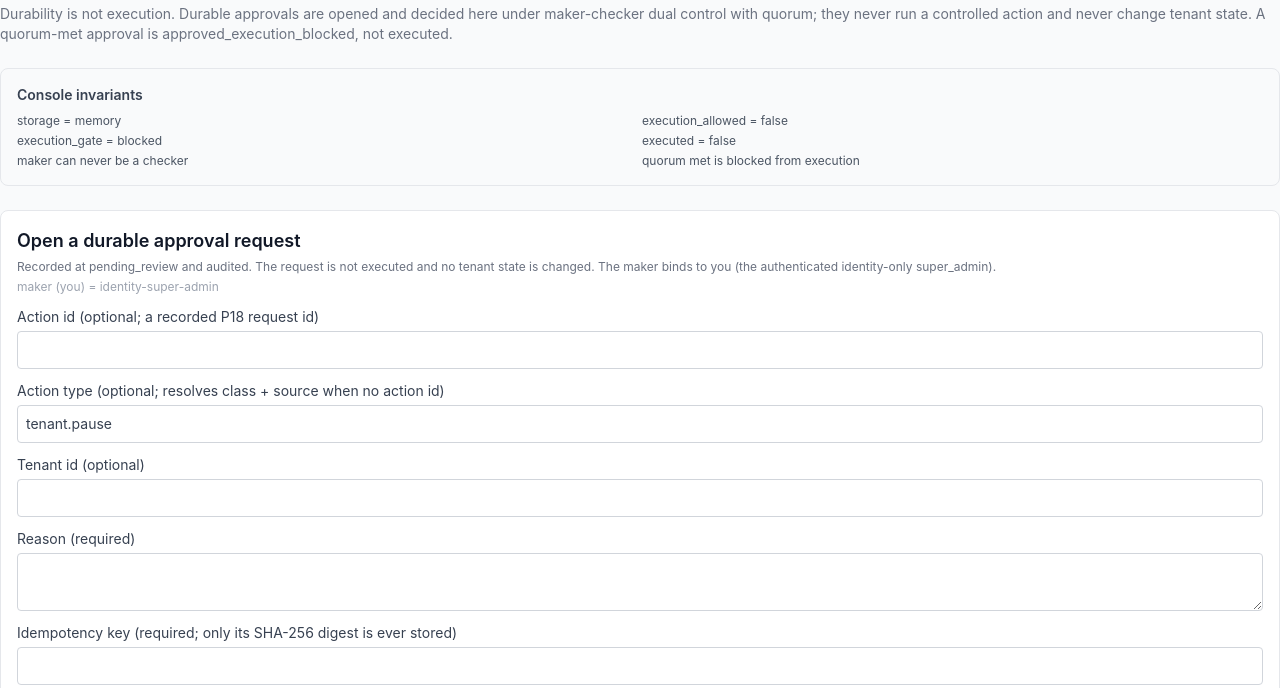
PlatformDurableApprovalsPage › create is disabled until reason, idempotency, expiry, and confirm are provided
This screenshot has width=1280, height=688.
In the text box with test id "dap-reason-input": coordinates (640, 582) [17, 553, 1263, 611], type "r"
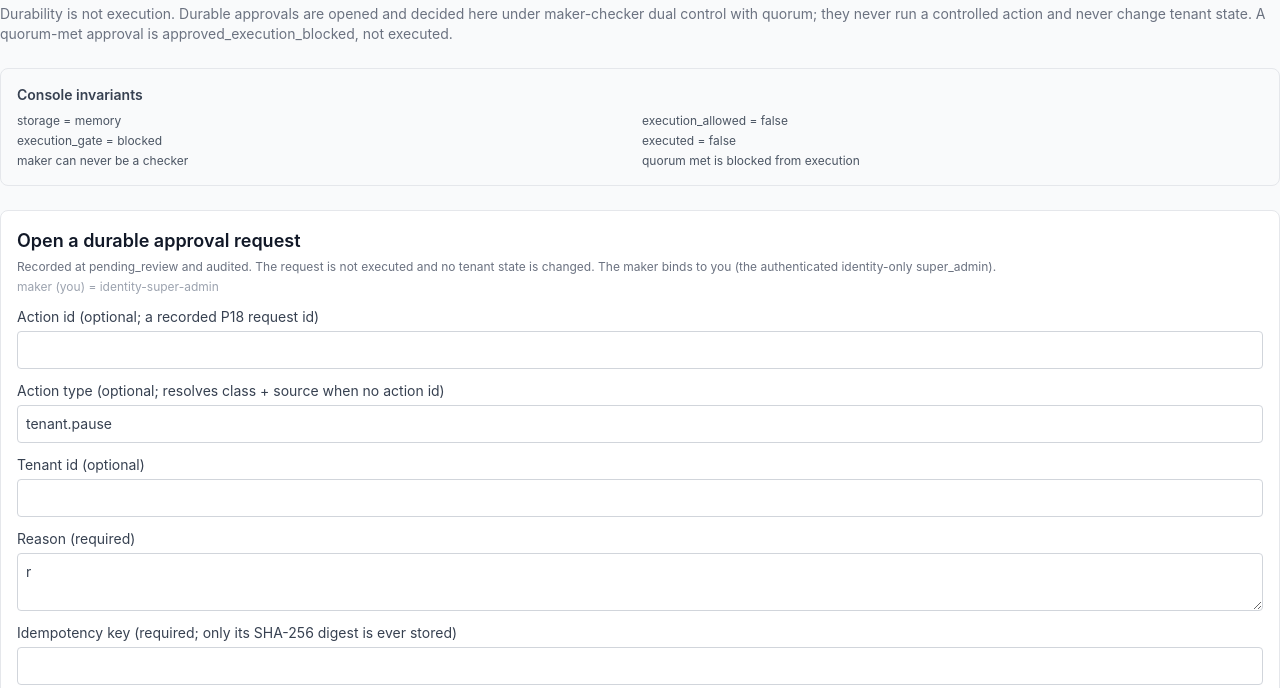
In the field with test id "dap-idempotency-input": coordinates (640, 666) [17, 647, 1263, 685], type "k"
(page scrolled)
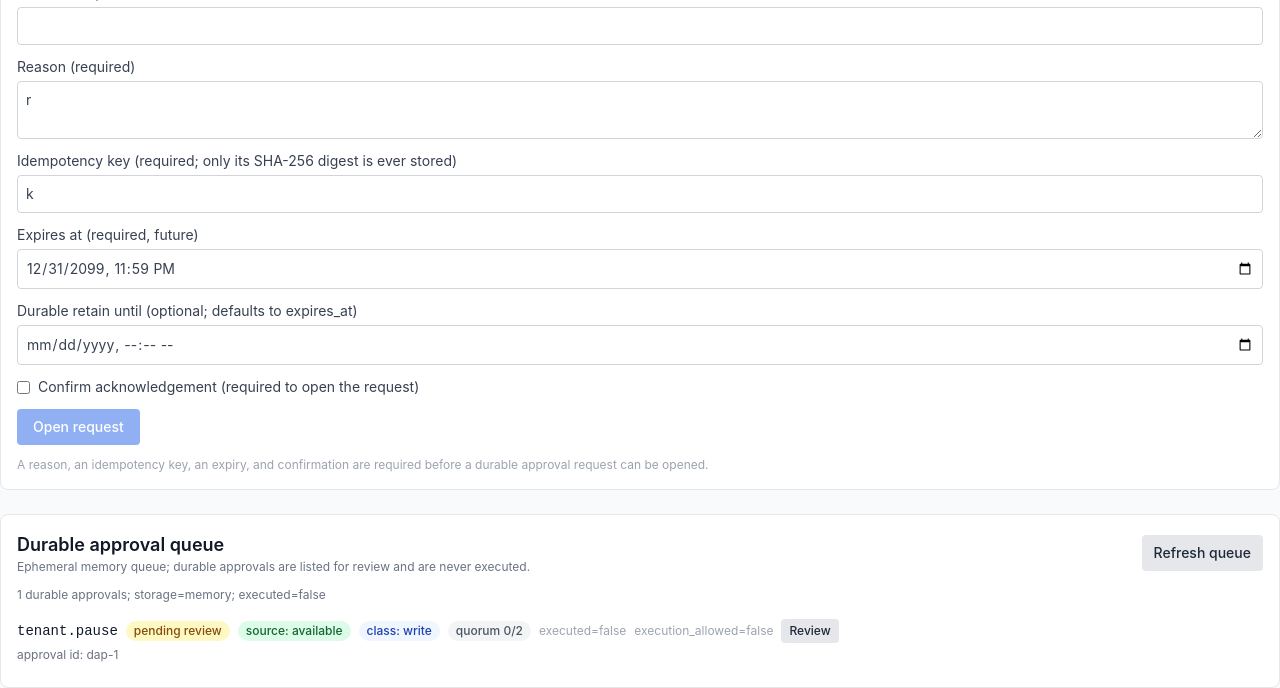
Expected: the button with test id "dap-create-btn" is disabled, [17, 409, 140, 445]
Click the checkbox with test id "dap-confirm-input": coordinates (24, 387) [17, 380, 30, 394]
(page scrolled)
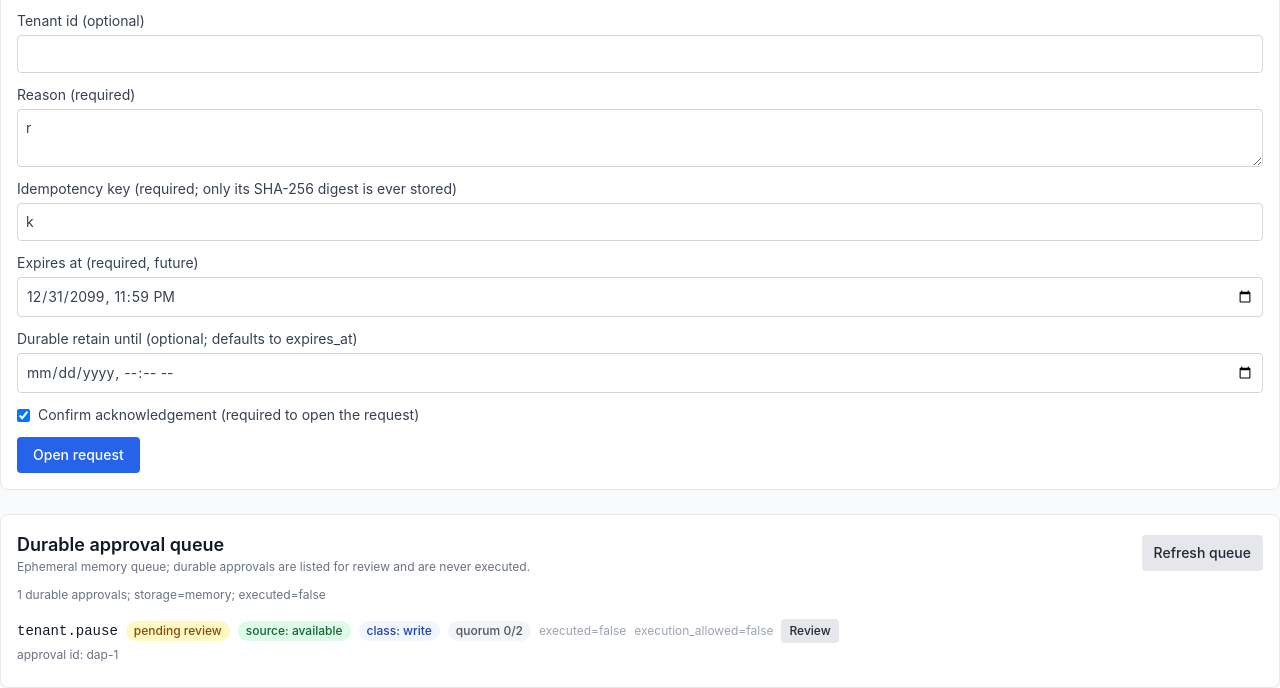
Expected: the button with test id "dap-create-btn" is enabled, [17, 437, 140, 473]
